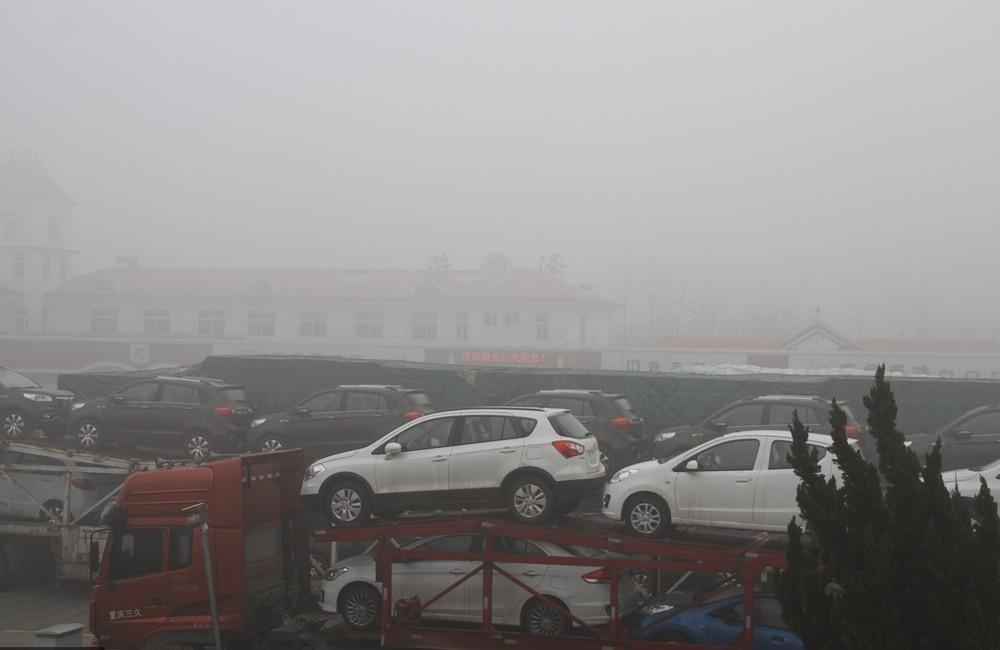car: (293, 406, 609, 528), (318, 531, 652, 645), (600, 429, 870, 540), (650, 394, 866, 486), (467, 389, 650, 484), (65, 375, 260, 464), (636, 586, 878, 650), (248, 384, 437, 465), (889, 400, 1000, 487), (1, 441, 115, 525), (912, 458, 1000, 535), (1, 363, 77, 441), (66, 362, 140, 397)
